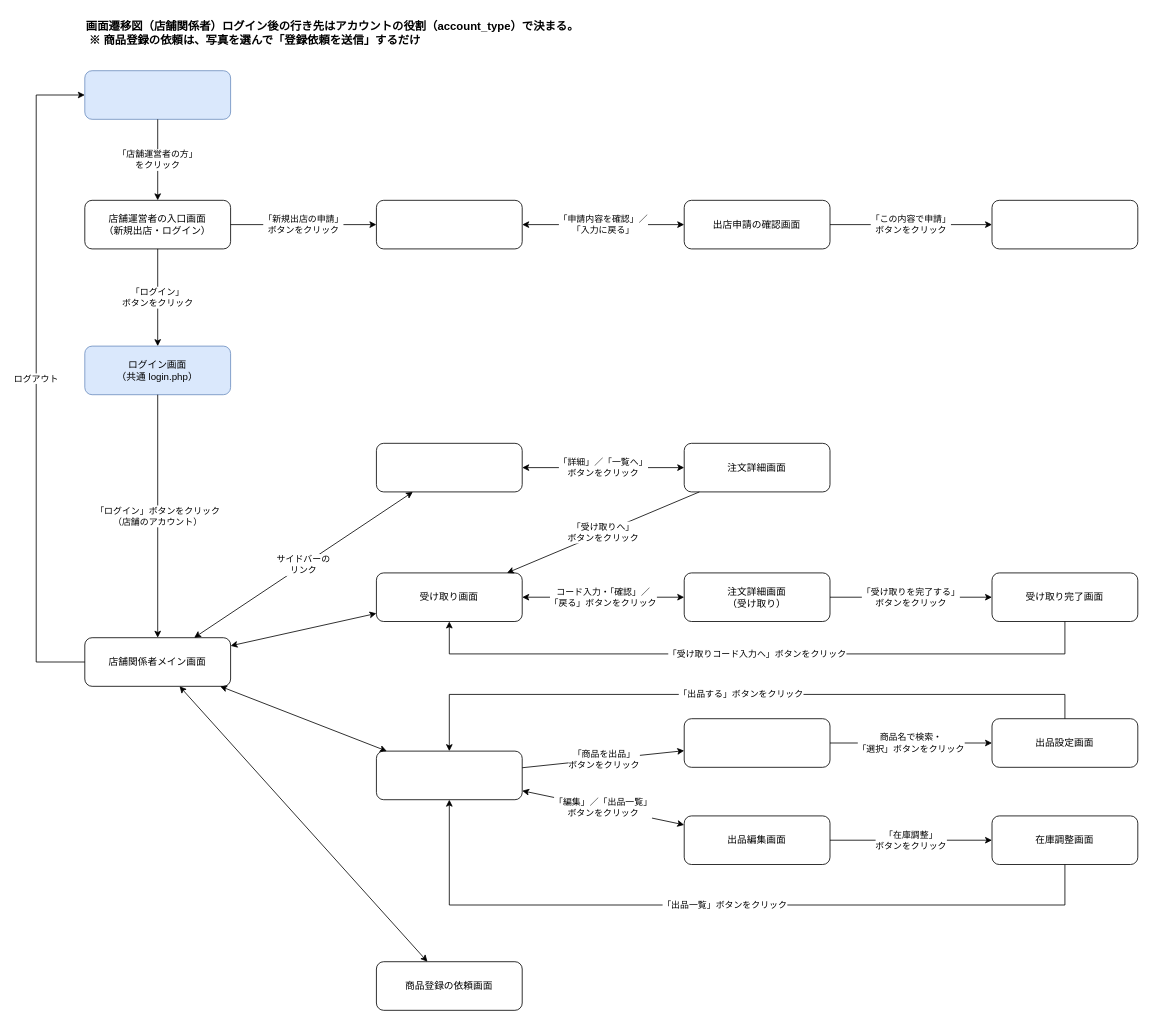
Image size: 1152x1025. Some labels were removed from this diagram. The shapes that lost their labels are listed below. From the top down, each one's centre as x and y in pixels, then its label:
At (x=157, y=94): "ウェルカムページ （共通）".
At (x=449, y=224): "新規出店申請画面".
At (x=1064, y=224): "出店申請完了画面".
At (x=449, y=467): "注文管理画面".
At (x=756, y=742): "商品検索画面".
At (x=449, y=775): "出品・在庫画面".
